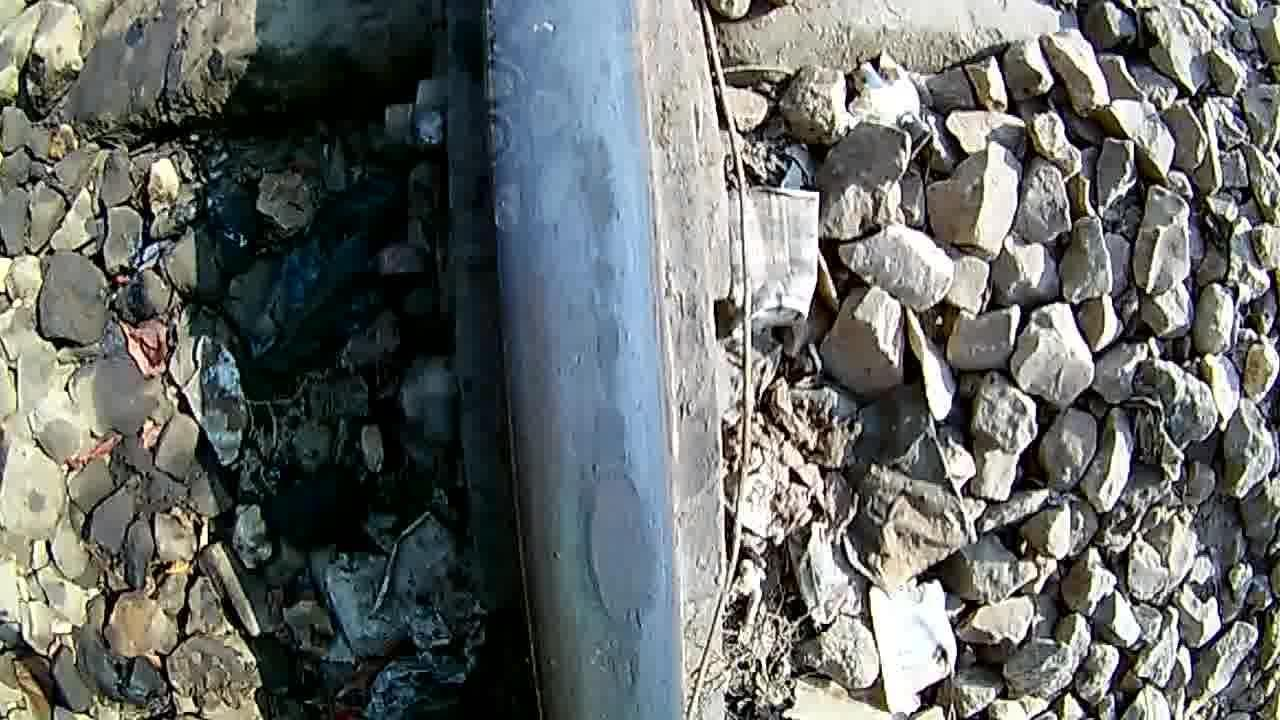crack: (482, 23, 692, 720)
